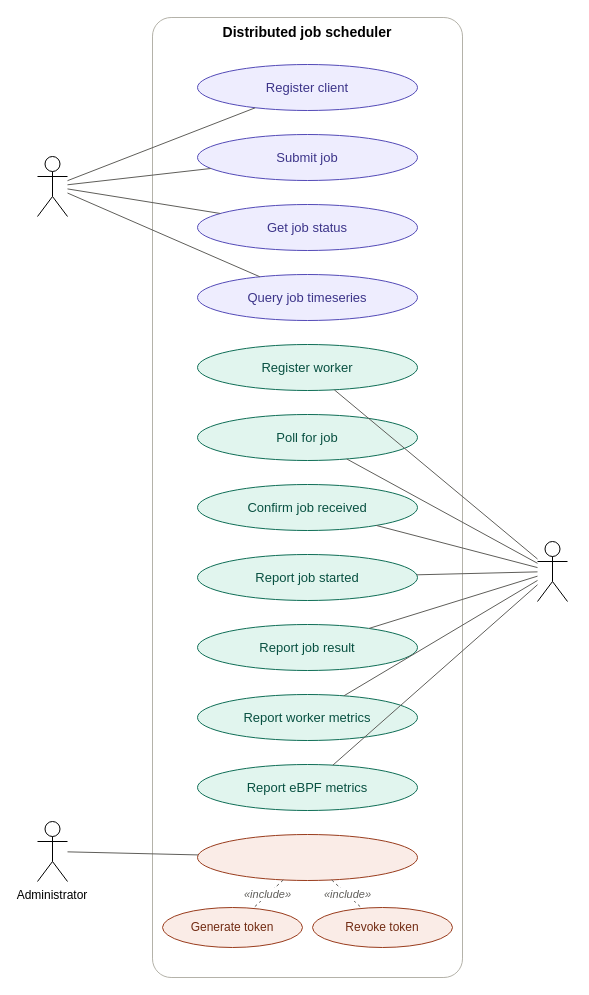
Image size: 589x995. Some labels were removed from this diagram. Here are the shapes that lost their labels. From the top down, the centre of each, then its label:
At pixel 52 186: "Client".
At pixel 552 571: "Worker node".
At pixel 307 857: "Manage auth tokens".
